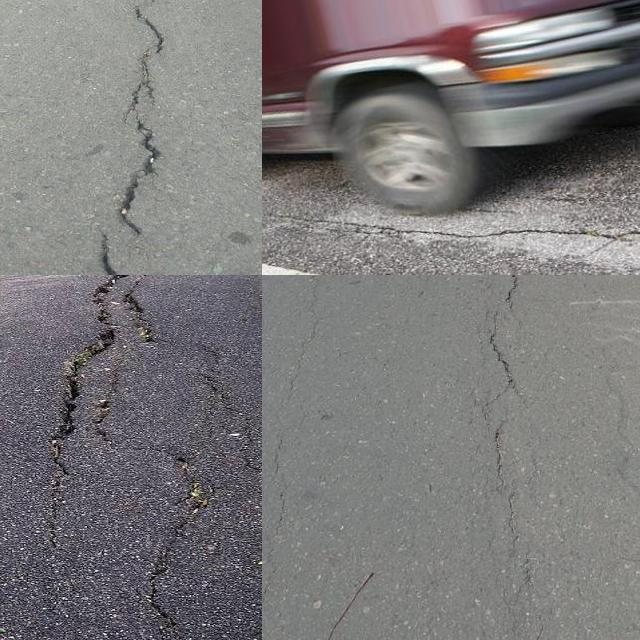Memanjang: (80, 0, 176, 275), (43, 275, 161, 457), (471, 275, 527, 506)
